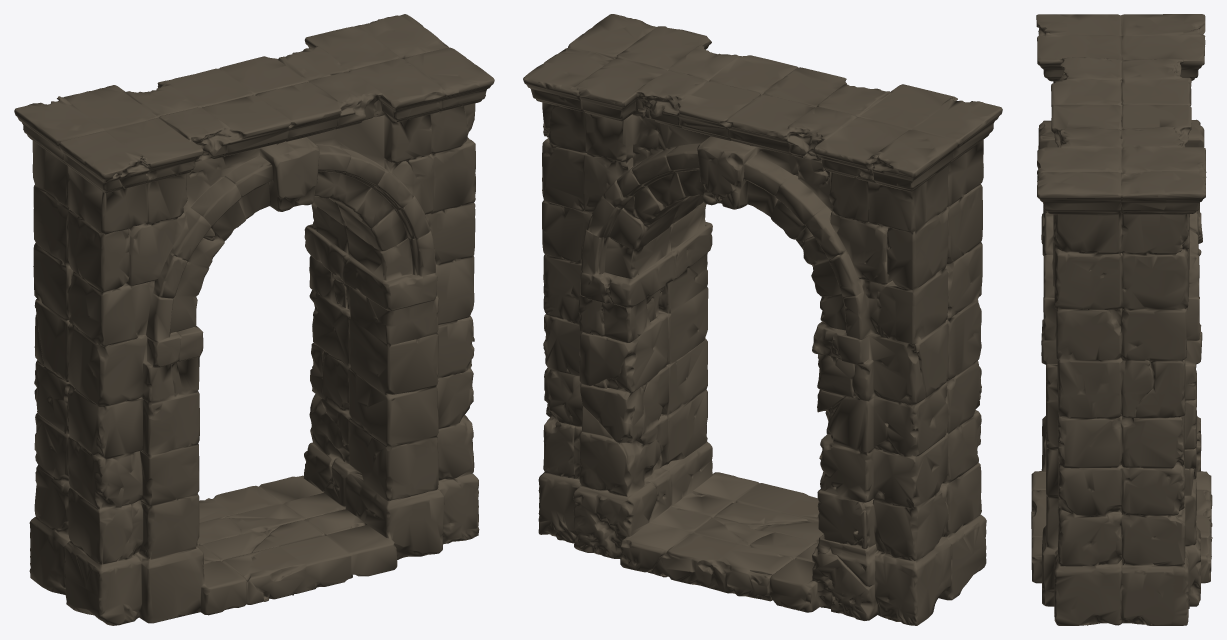
File: Arena_gate_shadow.glb
3 renders of one model, left to right at view 1: azimuth 30°, elevation 25°; view 2: azimuth 150°, elevation 25°; view 3: azimuth 270°, elevation 25°, orthographic. The views are drawn at different scales.
Parts seen in each view (by area): view 1: YVO3D.obj; view 2: YVO3D.obj; view 3: YVO3D.obj.
Boxes of the visible parts, <box> form: YVO3D.obj: <box>14,14,494,625</box>; YVO3D.obj: <box>523,14,1002,625</box>; YVO3D.obj: <box>1031,14,1212,625</box>.
Bounding box in the file's own units: 0.8582 × 0.9813 × 0.3655.
Materials: 1 (1 with a texture image).
